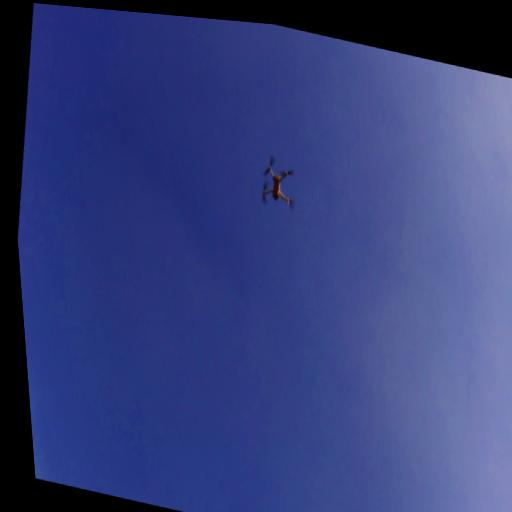drones: (253, 150, 304, 216)
